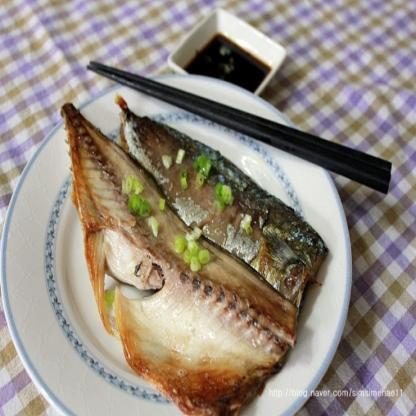Peixe: (62, 99, 315, 402)
